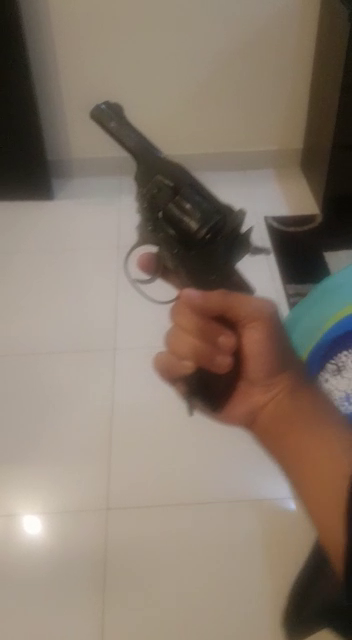handgun: (78, 71, 345, 565)
